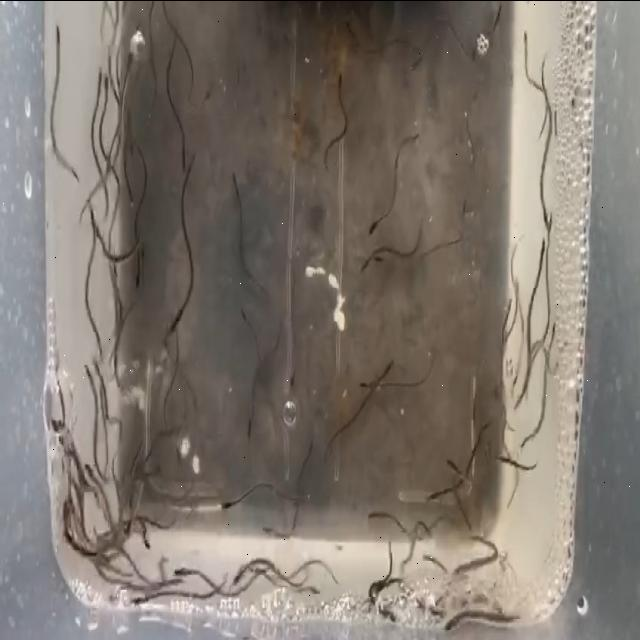inactive_glass_eel: (126, 154, 142, 220), (90, 51, 106, 107), (228, 152, 244, 204), (128, 260, 148, 300), (366, 579, 384, 623), (294, 574, 322, 602), (427, 474, 441, 529), (50, 408, 64, 458), (84, 202, 100, 244), (130, 581, 148, 618), (300, 436, 322, 466), (378, 339, 392, 385), (367, 493, 383, 532), (244, 392, 258, 436), (48, 20, 64, 58), (168, 304, 185, 338), (92, 348, 115, 373), (169, 560, 189, 588), (229, 561, 245, 595), (212, 489, 230, 519), (520, 22, 530, 74), (534, 237, 548, 274), (102, 66, 116, 102), (442, 603, 458, 633), (83, 450, 95, 490), (119, 506, 129, 552), (510, 384, 522, 422), (451, 558, 467, 586), (443, 459, 461, 483), (358, 366, 372, 396), (138, 526, 152, 556), (82, 358, 92, 400), (539, 204, 553, 232), (172, 156, 192, 174), (548, 321, 558, 355), (262, 514, 274, 542), (334, 74, 346, 100), (368, 212, 381, 234), (518, 436, 531, 456)
